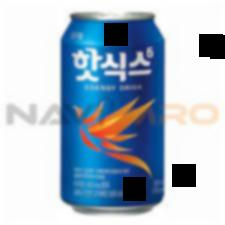hotsix_org: (61, 7, 164, 217)
